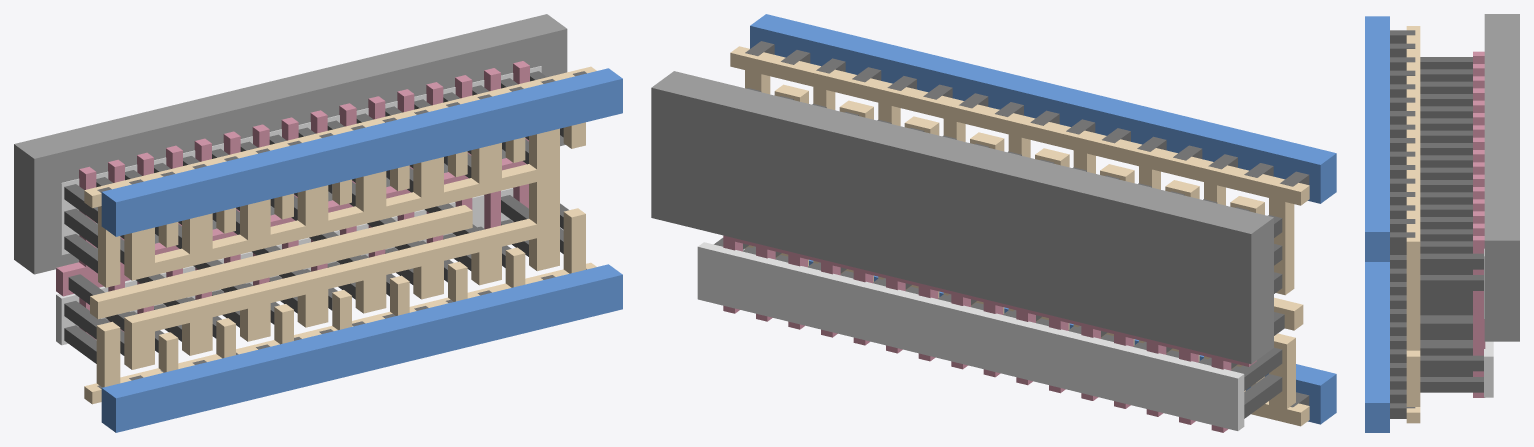
Rendered from sky130_fd_sc_hd__inv_16.gds.gltf.
3 views of the same model, side by side, from view 1: azimuth 30°, elevation 25°; view 2: azimuth 150°, elevation 25°; view 3: azimuth 270°, elevation 25° (orthographic). The views are drawn at different scales.
Parts seen in each view (by area): view 1: sky130_fd_sc_hd__inv_16_li1, sky130_fd_sc_hd__inv_16_met1, sky130_fd_sc_hd__inv_16_nwell, sky130_fd_sc_hd__inv_16_licon, sky130_fd_sc_hd__inv_16_poly, sky130_fd_sc_hd__inv_16_diff, sky130_fd_sc_hd__inv_16_mcon; view 2: sky130_fd_sc_hd__inv_16_nwell, sky130_fd_sc_hd__inv_16_diff, sky130_fd_sc_hd__inv_16_li1, sky130_fd_sc_hd__inv_16_met1, sky130_fd_sc_hd__inv_16_poly, sky130_fd_sc_hd__inv_16_mcon, sky130_fd_sc_hd__inv_16_licon; view 3: sky130_fd_sc_hd__inv_16_licon, sky130_fd_sc_hd__inv_16_nwell, sky130_fd_sc_hd__inv_16_met1, sky130_fd_sc_hd__inv_16_mcon, sky130_fd_sc_hd__inv_16_li1, sky130_fd_sc_hd__inv_16_poly, sky130_fd_sc_hd__inv_16_diff.
Part boxes in pixels (box(x1,y1,x2,y2)): sky130_fd_sc_hd__inv_16_li1: box(84, 66, 596, 404); sky130_fd_sc_hd__inv_16_met1: box(101, 68, 622, 432); sky130_fd_sc_hd__inv_16_nwell: box(14, 14, 567, 274); sky130_fd_sc_hd__inv_16_licon: box(64, 71, 568, 363); sky130_fd_sc_hd__inv_16_poly: box(56, 61, 529, 339); sky130_fd_sc_hd__inv_16_diff: box(56, 66, 541, 345); sky130_fd_sc_hd__inv_16_mcon: box(97, 71, 586, 388); sky130_fd_sc_hd__inv_16_nwell: box(651, 71, 1273, 364); sky130_fd_sc_hd__inv_16_diff: box(697, 242, 1244, 430); sky130_fd_sc_hd__inv_16_li1: box(730, 46, 1309, 426); sky130_fd_sc_hd__inv_16_met1: box(750, 14, 1336, 424); sky130_fd_sc_hd__inv_16_poly: box(723, 235, 1256, 432); sky130_fd_sc_hd__inv_16_mcon: box(745, 41, 1309, 407); sky130_fd_sc_hd__inv_16_licon: box(714, 88, 1284, 418); sky130_fd_sc_hd__inv_16_licon: box(1420, 57, 1483, 392); sky130_fd_sc_hd__inv_16_nwell: box(1484, 14, 1519, 341); sky130_fd_sc_hd__inv_16_met1: box(1365, 16, 1389, 432); sky130_fd_sc_hd__inv_16_mcon: box(1390, 30, 1415, 418); sky130_fd_sc_hd__inv_16_li1: box(1406, 26, 1420, 423); sky130_fd_sc_hd__inv_16_poly: box(1473, 51, 1485, 397); sky130_fd_sc_hd__inv_16_diff: box(1484, 248, 1493, 397).
Bounding box in the file's own units: 7.74 × 3.2 × 2.24.
